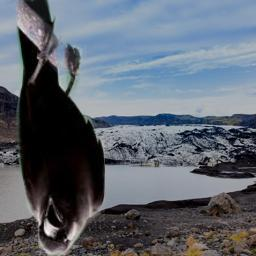Crow: (15, 0, 105, 256)
